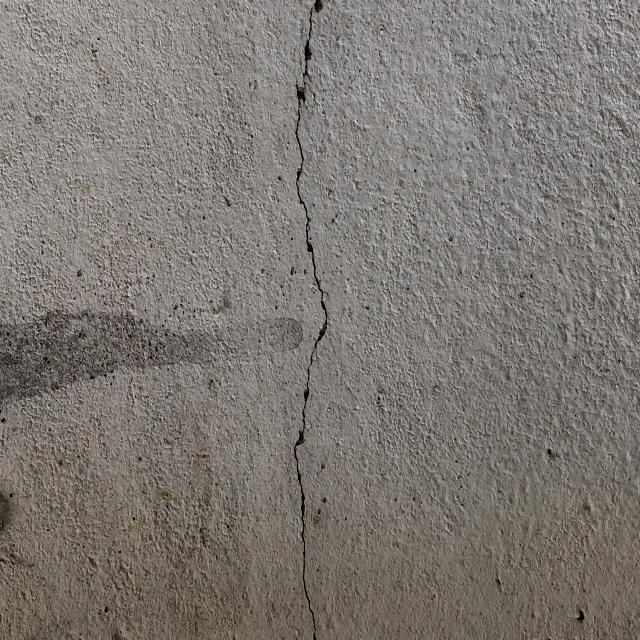SurfaceCrack: (241, 1, 375, 640)
